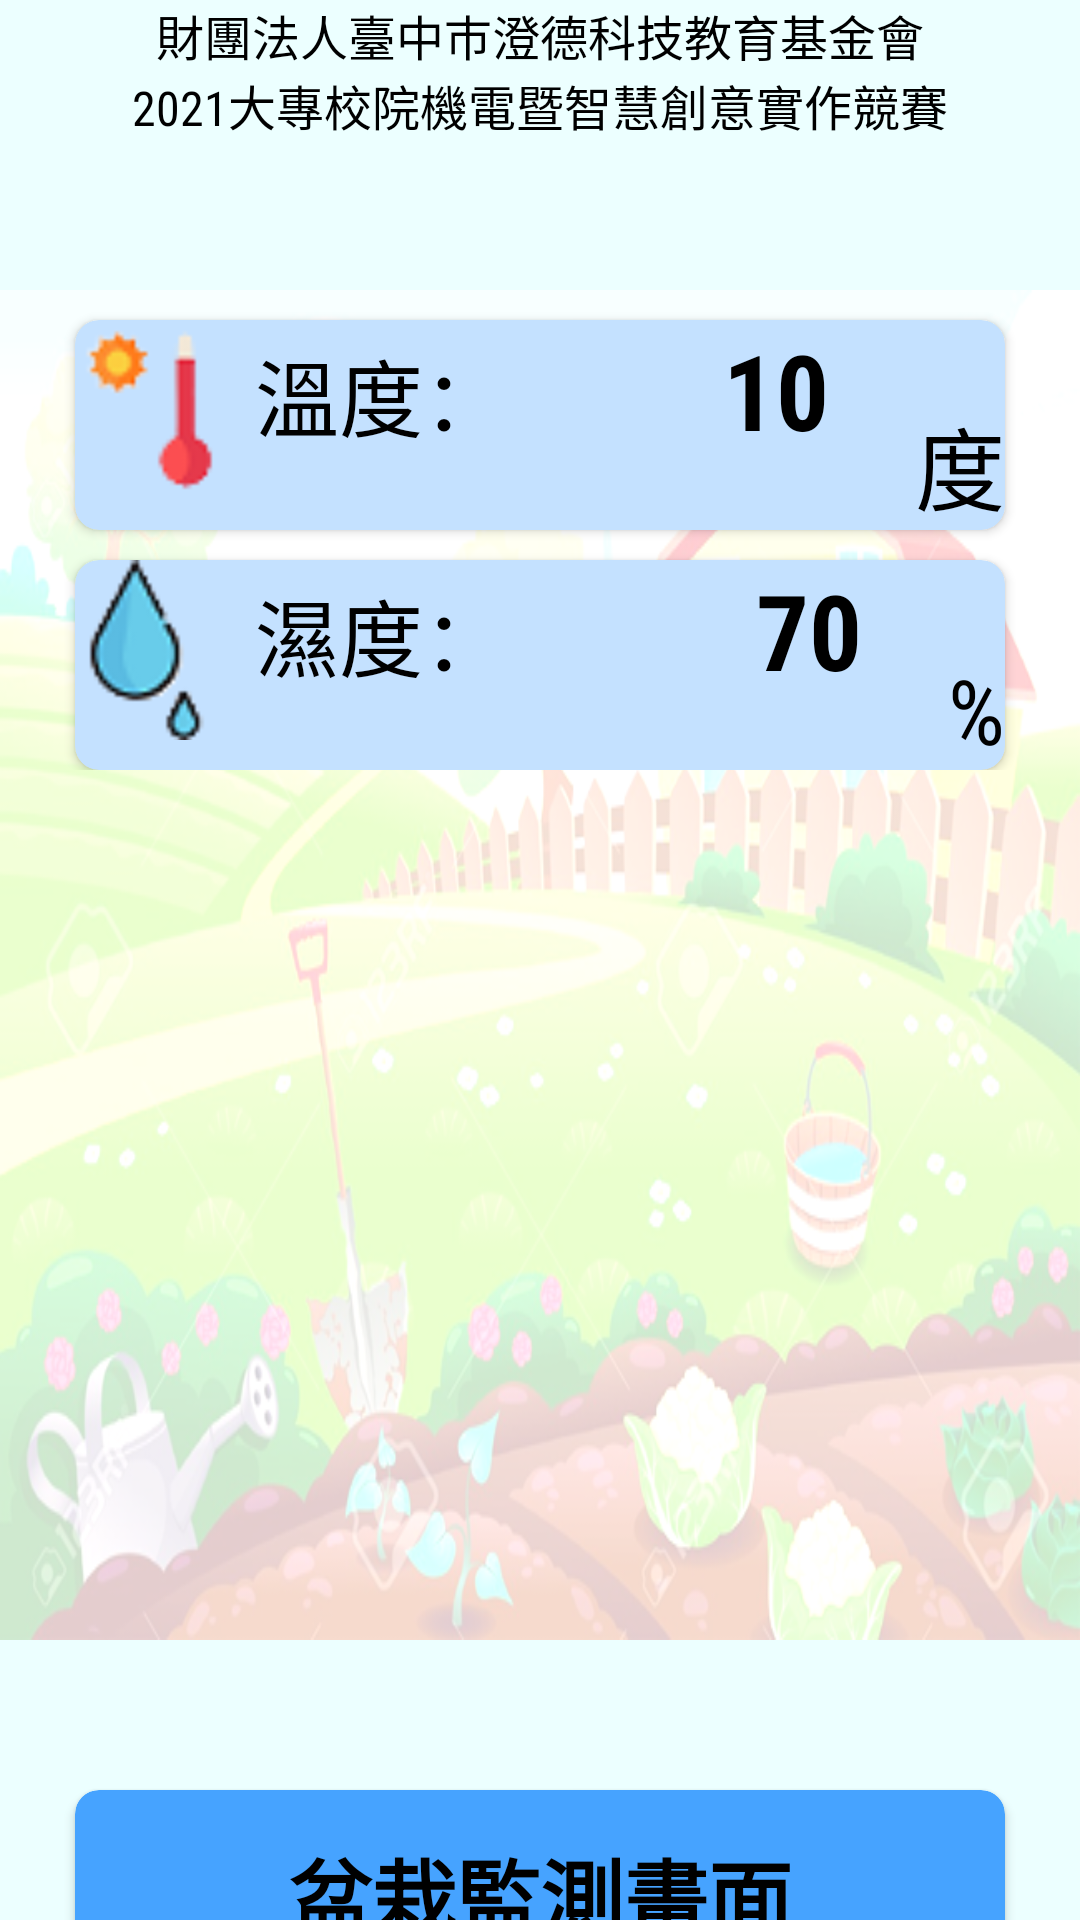

Locate icon controls on the screen. Image size 1080×1920, boxes as bbox(x1, y1, x2, y2).
humiditydeal: bbox(75, 560, 203, 740)
temperaturw deal: bbox(88, 331, 212, 489)
